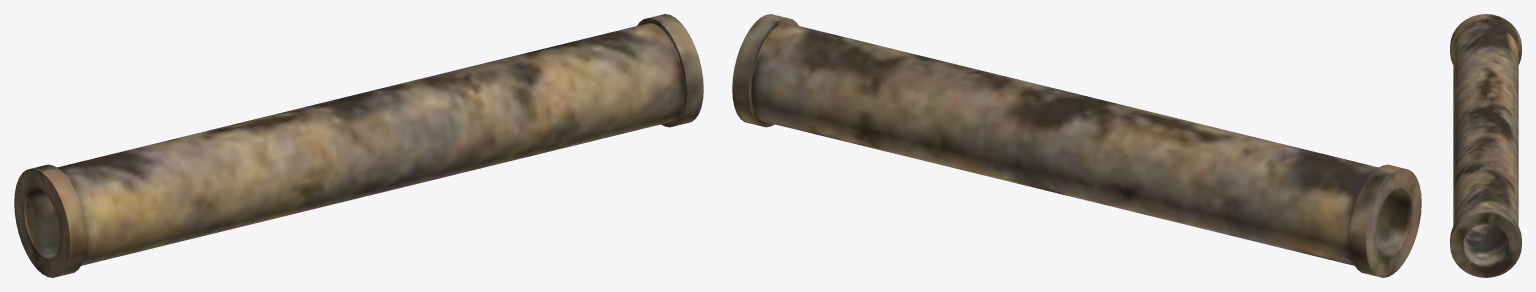
The model's file is pipe-straight-long.gltf.
3 views of the same model, side by side, from view 1: azimuth 30°, elevation 25°; view 2: azimuth 150°, elevation 25°; view 3: azimuth 270°, elevation 25° (orthographic). The views are drawn at different scales.
Visible parts, largest first — view 1: Pipe_6; view 2: Pipe_6; view 3: Pipe_6.
Boxes of the visible parts, bbox=[...] form: Pipe_6: bbox=[14, 14, 703, 277]; Pipe_6: bbox=[732, 14, 1421, 277]; Pipe_6: bbox=[1450, 14, 1521, 277].
Bounding box in the file's own units: 1.84 × 0.2812 × 0.2812.
1 material, 1 textured.
